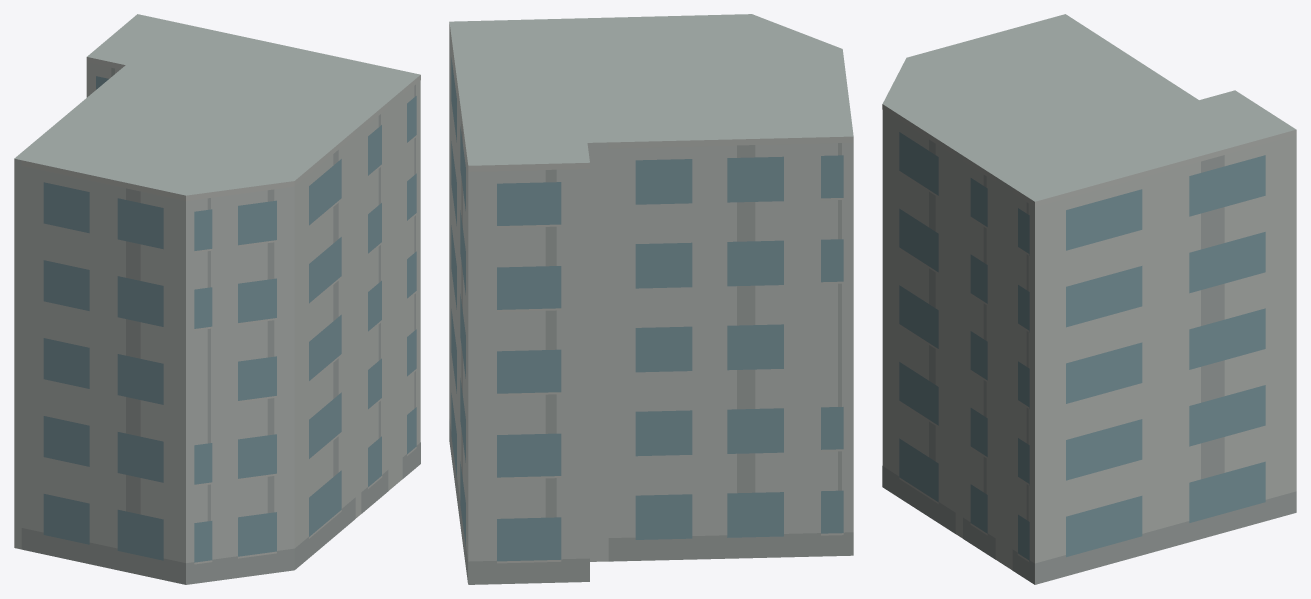
The model's file is survey-upis-32862708.glb.
The picture shows the model from 3 angles, left to right: view 1: azimuth 30°, elevation 25°; view 2: azimuth 150°, elevation 25°; view 3: azimuth 270°, elevation 25°; orthographic projection. The views are drawn at different scales.
Visible parts, largest first — view 1: survey-upis-32862708.tmp; view 2: survey-upis-32862708.tmp; view 3: survey-upis-32862708.tmp.
Boxes of the visible parts, left/top/right/bottom form: survey-upis-32862708.tmp: left=14, top=14, right=420, bottom=584; survey-upis-32862708.tmp: left=449, top=14, right=853, bottom=584; survey-upis-32862708.tmp: left=882, top=14, right=1296, bottom=584.
Bounding box in the file's own units: 17.62 × 16.75 × 16.42.
